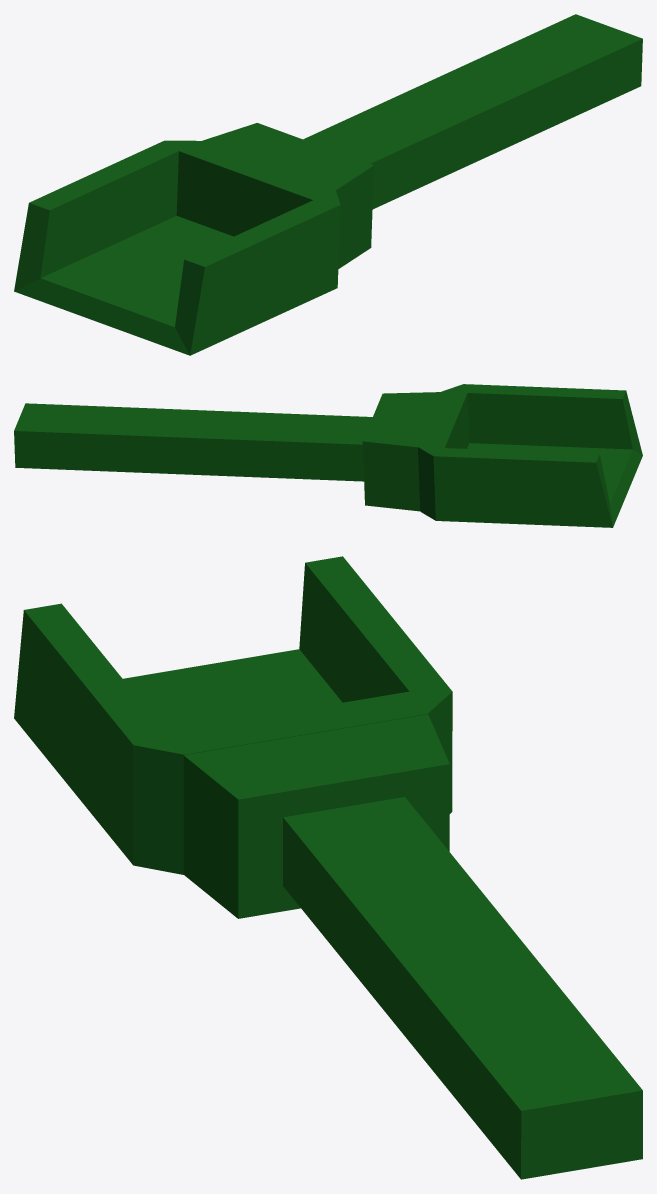
File: Playground_scapulas.fbx
3 views of the same model, one above another, from view 1: azimuth 30°, elevation 25°; view 2: azimuth 150°, elevation 25°; view 3: azimuth 270°, elevation 25° (orthographic). The views are drawn at different scales.
Parts seen in each view (by area): view 1: Playground_scapulas; view 2: Playground_scapulas; view 3: Playground_scapulas.
Boxes of the visible parts, left/top/right/bottom form: Playground_scapulas: left=14, top=14, right=642, bottom=355; Playground_scapulas: left=14, top=384, right=642, bottom=527; Playground_scapulas: left=14, top=556, right=642, bottom=1179.
Bounding box in the file's own units: 37.8 × 4.91 × 20.01.
